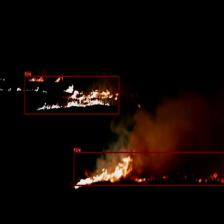fire: (73, 151, 224, 185), (24, 76, 119, 114)
